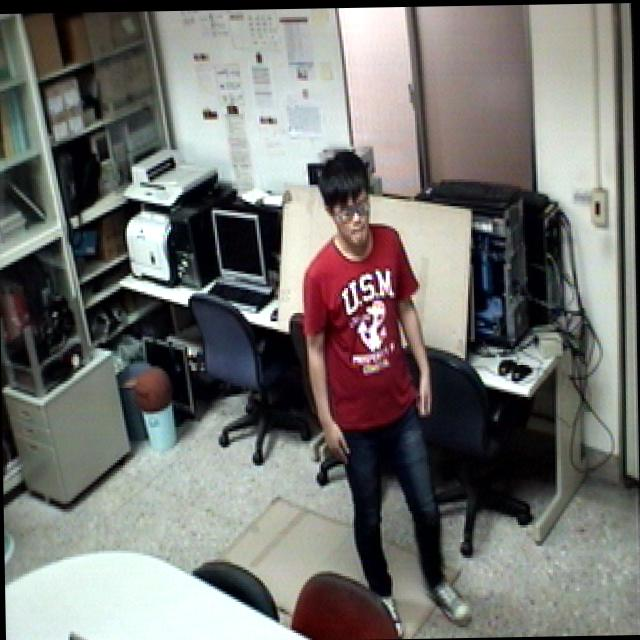stand: (296, 147, 475, 640)
